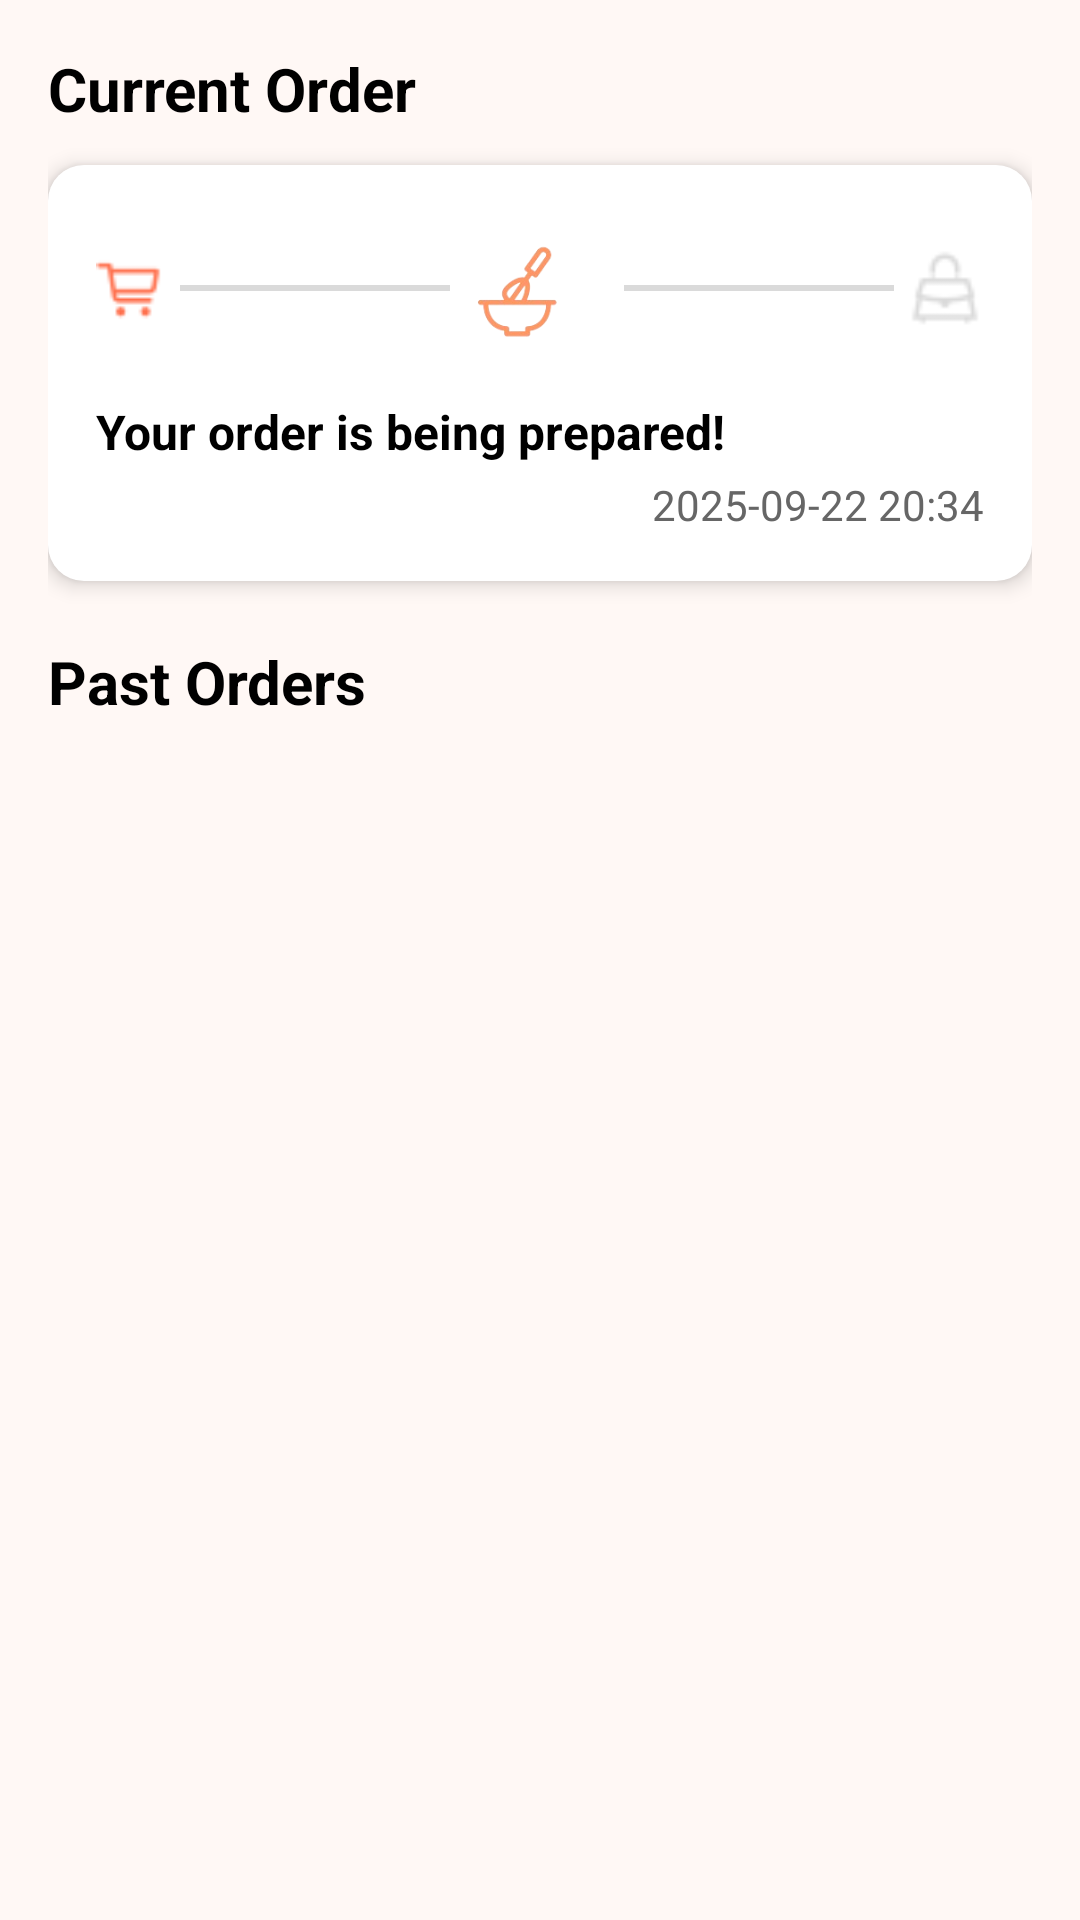

Where to tap for icons on this 1080 x 1920 app screen, as point (x, y):
bag: point (945, 288)
bowlic bowl: point (517, 292)
cart: point (128, 290)
